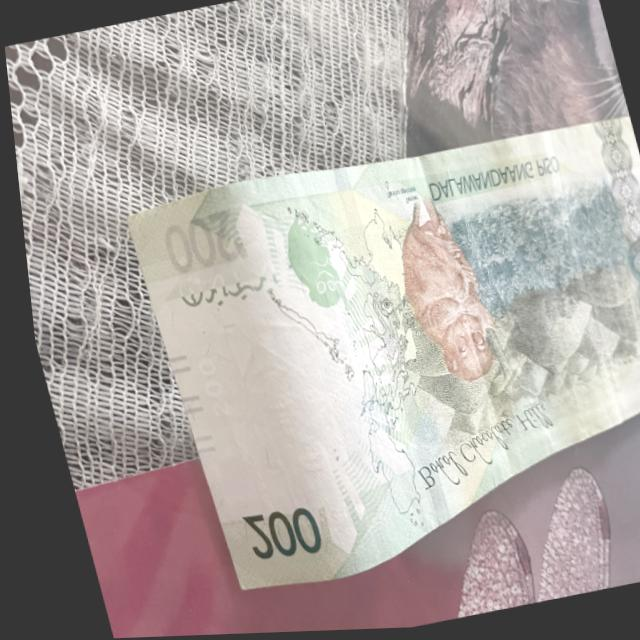200_tarsier: (358, 180, 508, 418)
200_tarsier_watermark: (253, 191, 357, 332)
value_watermark: (170, 337, 235, 432)
watermark: (169, 290, 367, 528)
